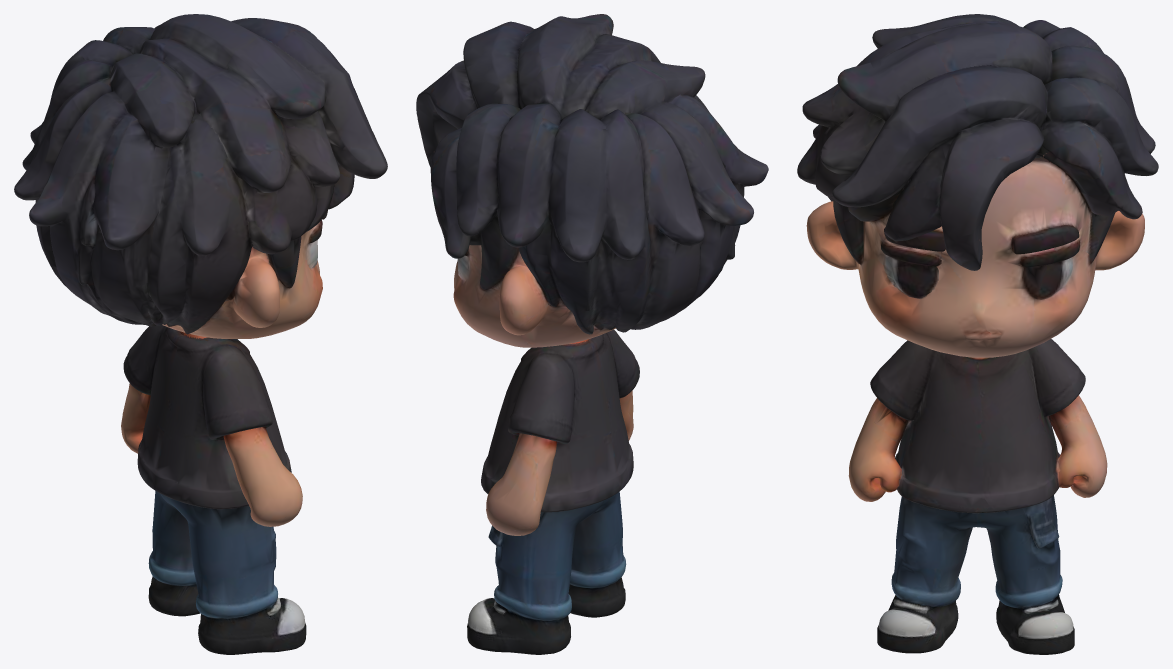
Rendered from hair_m3-web.glb.
3 renders of one model, left to right at view 1: azimuth 30°, elevation 25°; view 2: azimuth 150°, elevation 25°; view 3: azimuth 270°, elevation 25°, orthographic. The views are drawn at different scales.
Parts seen in each view (by area): view 1: tripo_node_b46ca87d-d05d-4d35-8308-00a161ae3e55; view 2: tripo_node_b46ca87d-d05d-4d35-8308-00a161ae3e55; view 3: tripo_node_b46ca87d-d05d-4d35-8308-00a161ae3e55.
Part boxes in pixels (left/top/right/bottom): tripo_node_b46ca87d-d05d-4d35-8308-00a161ae3e55: left=14, top=14, right=387, bottom=654; tripo_node_b46ca87d-d05d-4d35-8308-00a161ae3e55: left=416, top=14, right=768, bottom=654; tripo_node_b46ca87d-d05d-4d35-8308-00a161ae3e55: left=797, top=14, right=1158, bottom=654.
Bounding box in the file's own units: 0.5867 × 0.9998 × 0.5454.
1 material, 1 textured.
